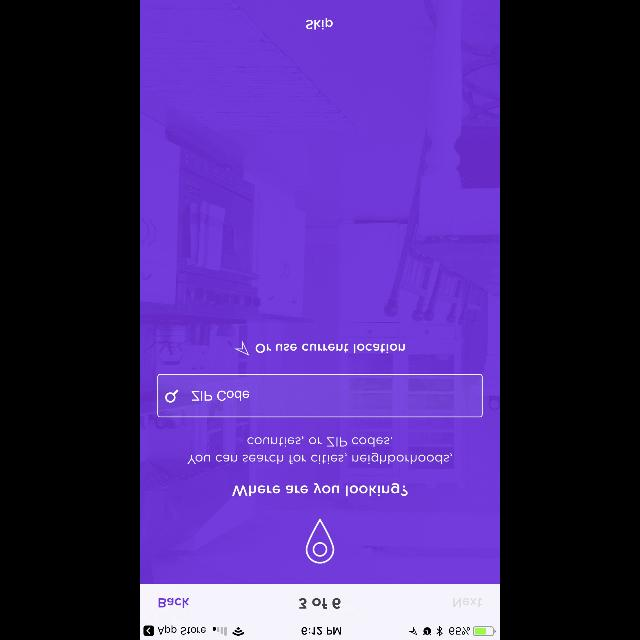backgroundimage: (140, 0, 500, 584)
icon: (306, 518, 334, 564), (234, 340, 250, 356), (166, 390, 178, 402)
input: (158, 373, 482, 417)
text: (188, 436, 452, 464), (232, 484, 408, 496), (256, 343, 404, 353), (192, 391, 250, 401), (299, 598, 341, 608), (306, 18, 334, 30), (158, 597, 190, 607), (453, 597, 482, 607)
uppertaskbar: (140, 625, 500, 639)
